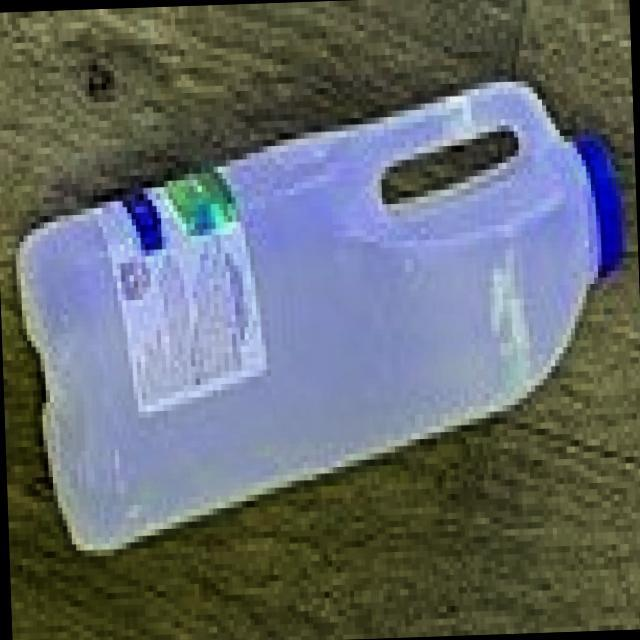HDPE Plastic: (12, 74, 630, 560)
